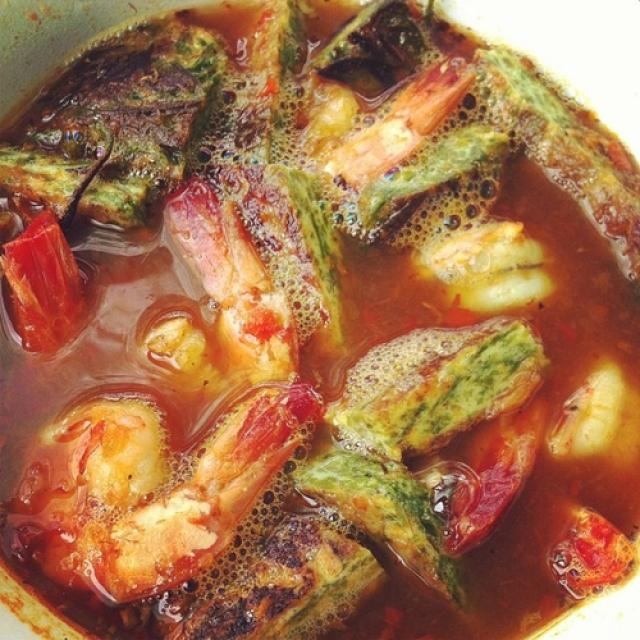汤锅炖物: (19, 28, 612, 611)
